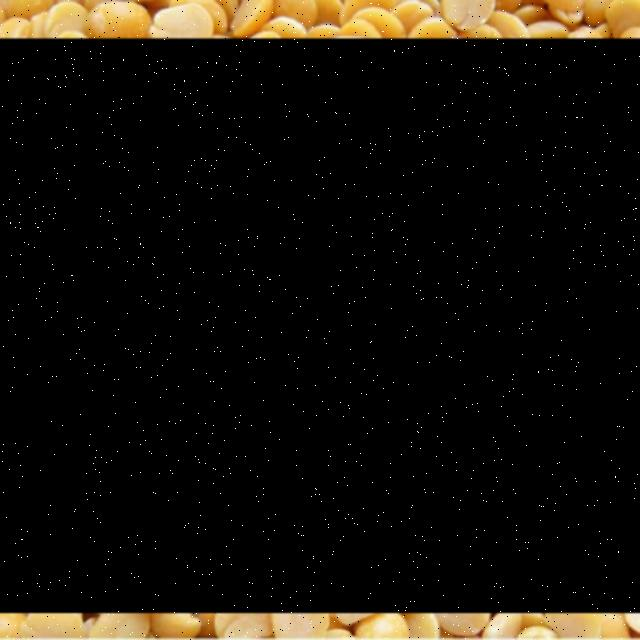Rahar_ko_Daal: (0, 40, 640, 614), (200, 220, 261, 284)
